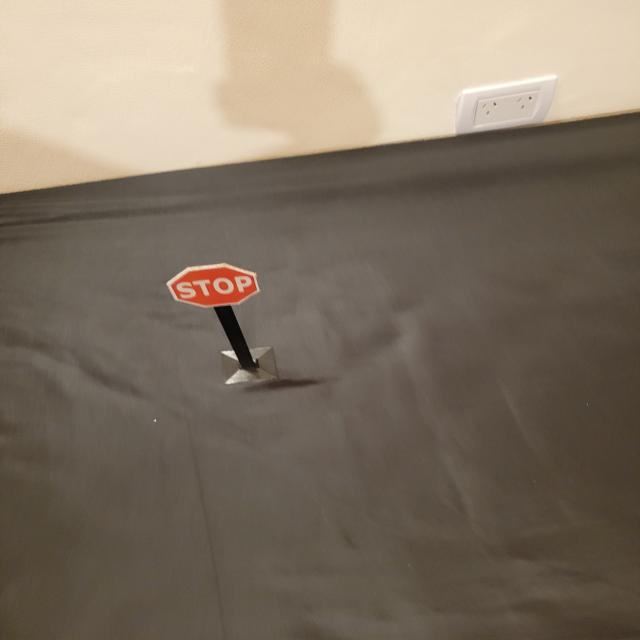stop: (166, 262, 260, 308)
